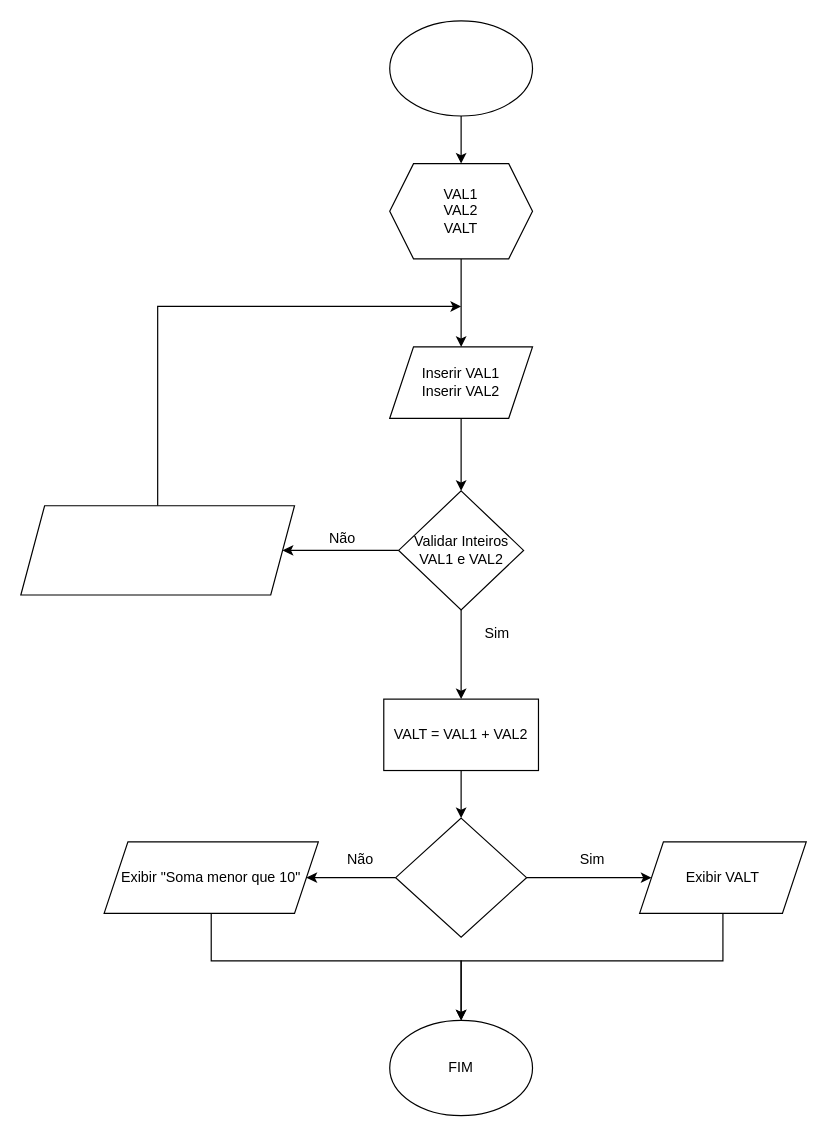
The diagram is 827 pixels wide and 1136 high, and some of its shapes have lost their labels. The centre of each missing label's shape, as x and y in pixels:
Exibir "ERROR: VAL1 e VAL2 não são inteiros": [157,550]
INICIO: [461,68]
VALT >= 10: [460,877]
